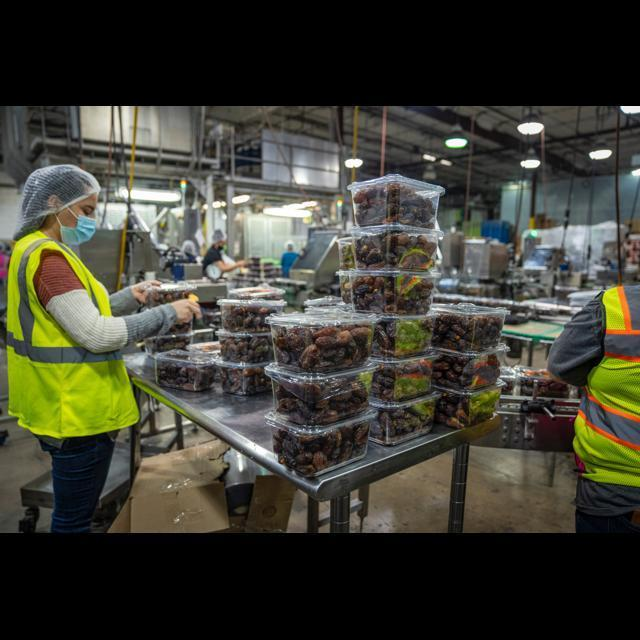safety_vest: (0, 222, 152, 448), (564, 264, 640, 494)
